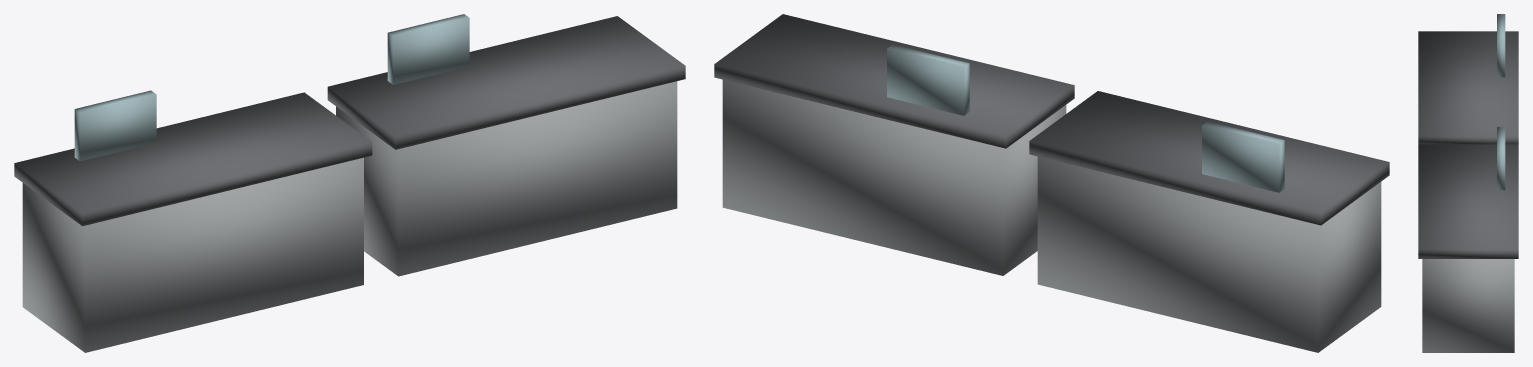
File: police_booking_desk__cluster.glb
3 views of the same model, side by side, from view 1: azimuth 30°, elevation 25°; view 2: azimuth 150°, elevation 25°; view 3: azimuth 270°, elevation 25° (orthographic). The views are drawn at different scales.
Parts seen in each view (by area): view 1: world; view 2: world; view 3: world.
Boxes of the visible parts, box(x1,y1,x2,y2) form: world: box(14, 14, 685, 352); world: box(714, 14, 1389, 352); world: box(1418, 14, 1518, 352).
Bounding box in the file's own units: 3.79 × 1.15 × 0.74.
